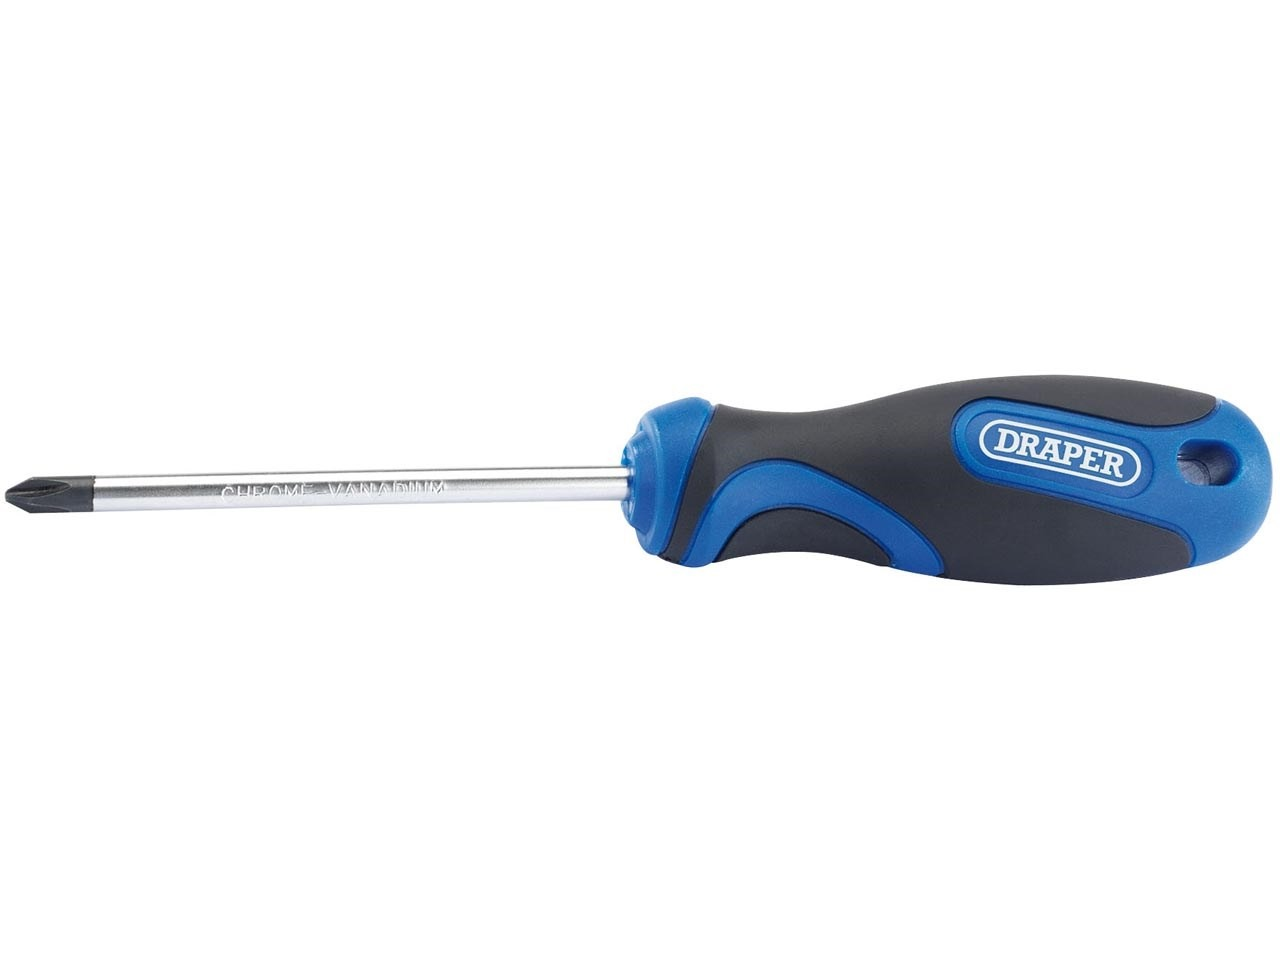screwdriver: (7, 361, 1280, 594)
